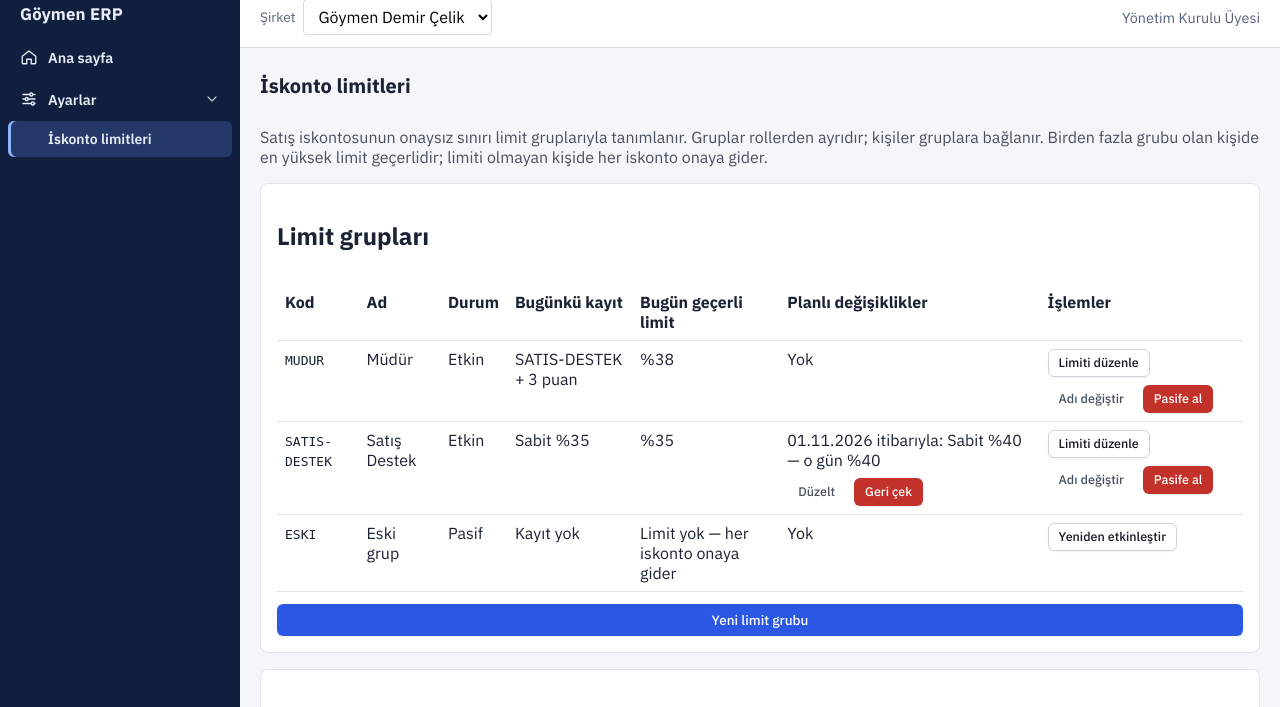
it: İskonto limitleri — groups › creates a group with the normalized code, the reason and one Idempotency-Key, then re-reads
Expected: the table named "Limit grupları ve limitleri" is shown, [277,284,1243,592]
Click the button "Yeni limit grubu".
click(760, 620)  # box [277,604,1243,636]
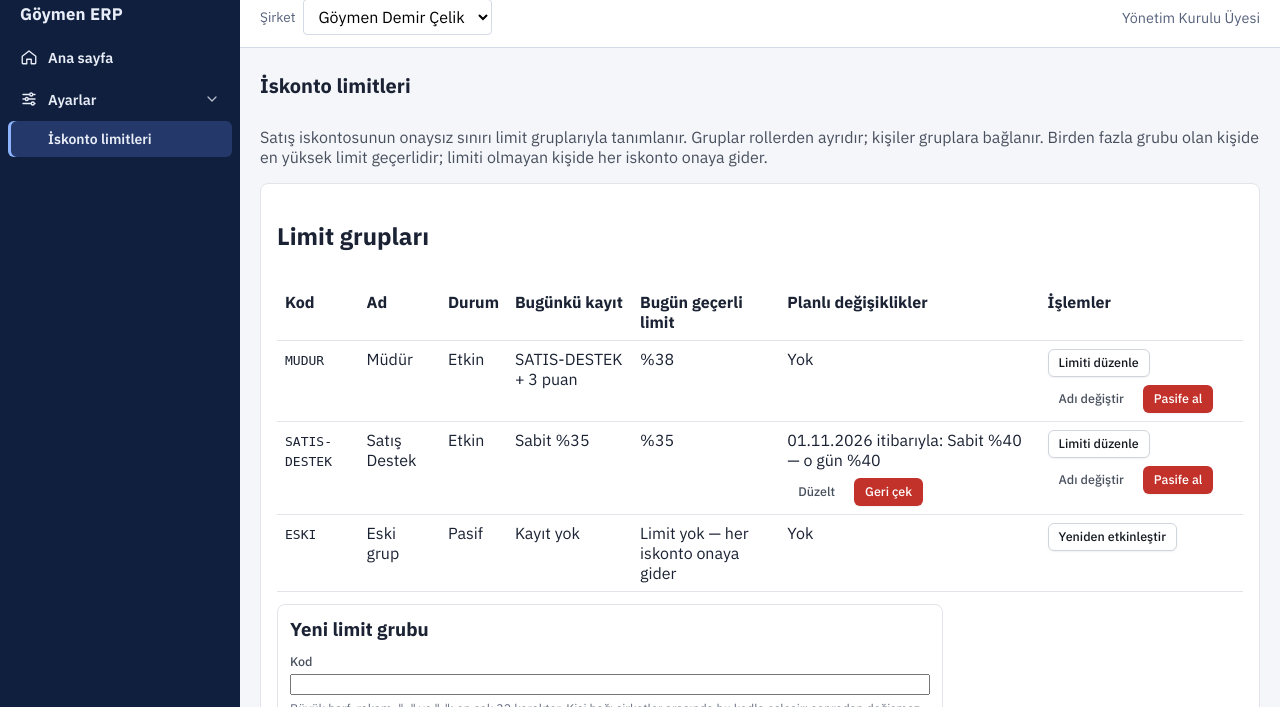
Type " kidemli-satici " into the field labelled "Kod".
click(610, 684); type(" kidemli-satici ")  # box [290,674,930,695]
(page scrolled)
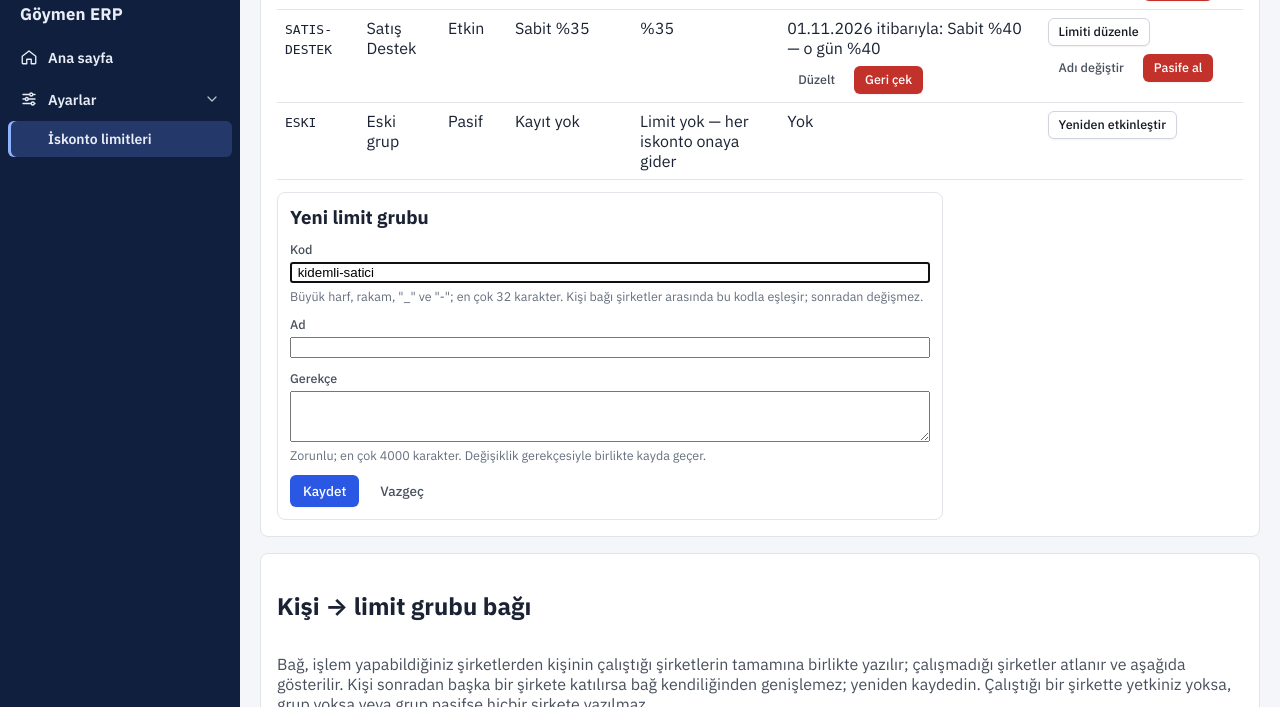
Type "Kıdemli Satıcı" into the field labelled "Ad".
click(610, 347); type("Kıdemli Satıcı")  # box [290,337,930,358]
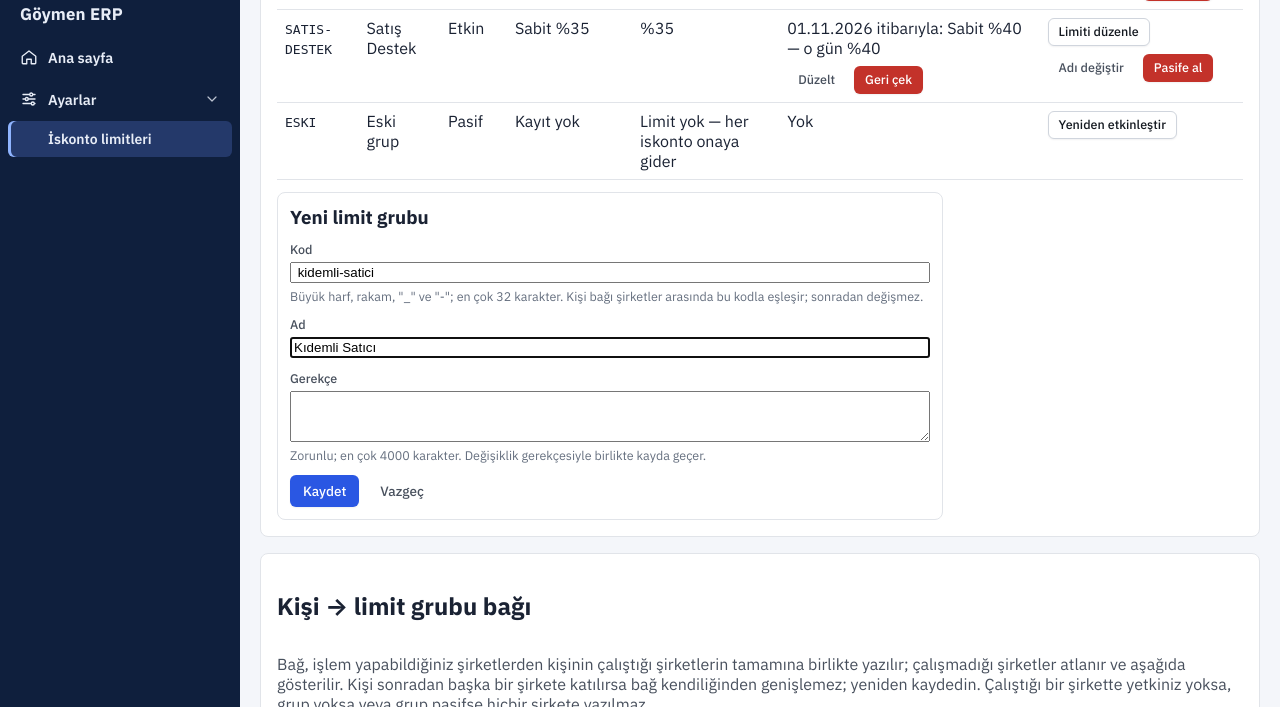
Type "Yönetim kurulu kararı" into the text box labelled "Gerekçe".
click(610, 416); type("Yönetim kurulu kararı")  # box [290,391,930,442]
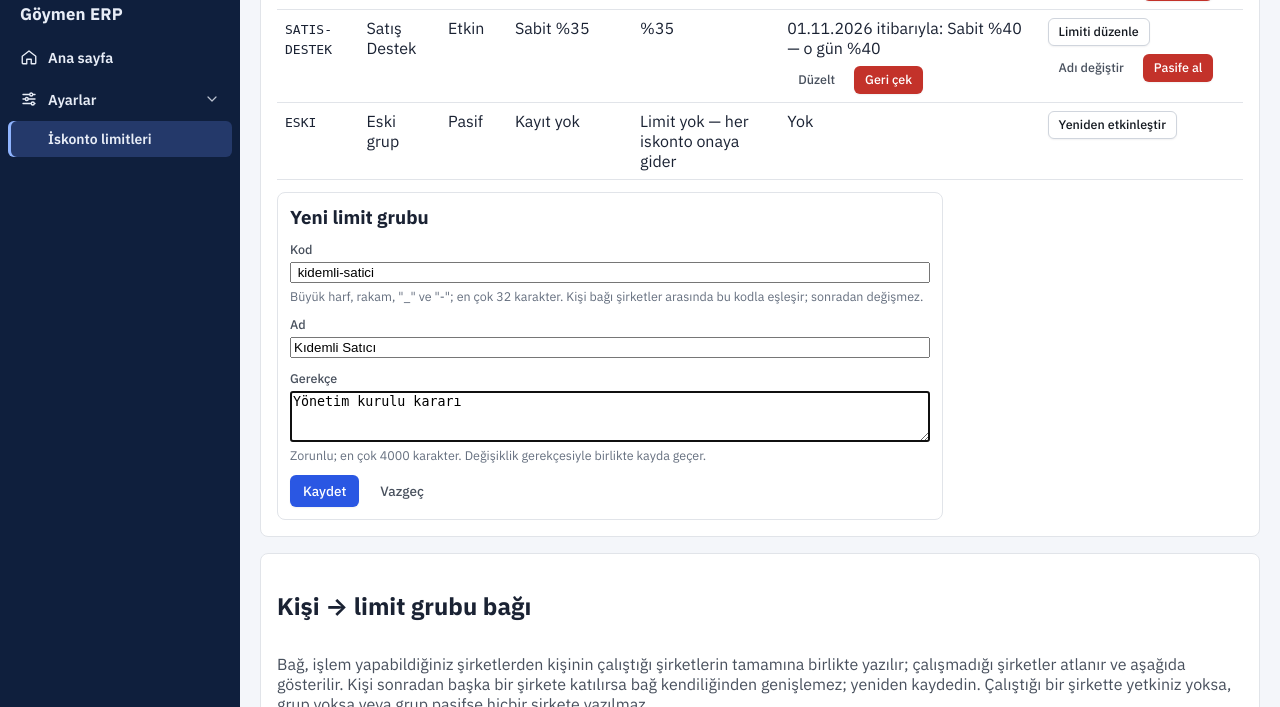
Click the button "Kaydet".
click(325, 491)  # box [290,475,359,507]
(page scrolled)
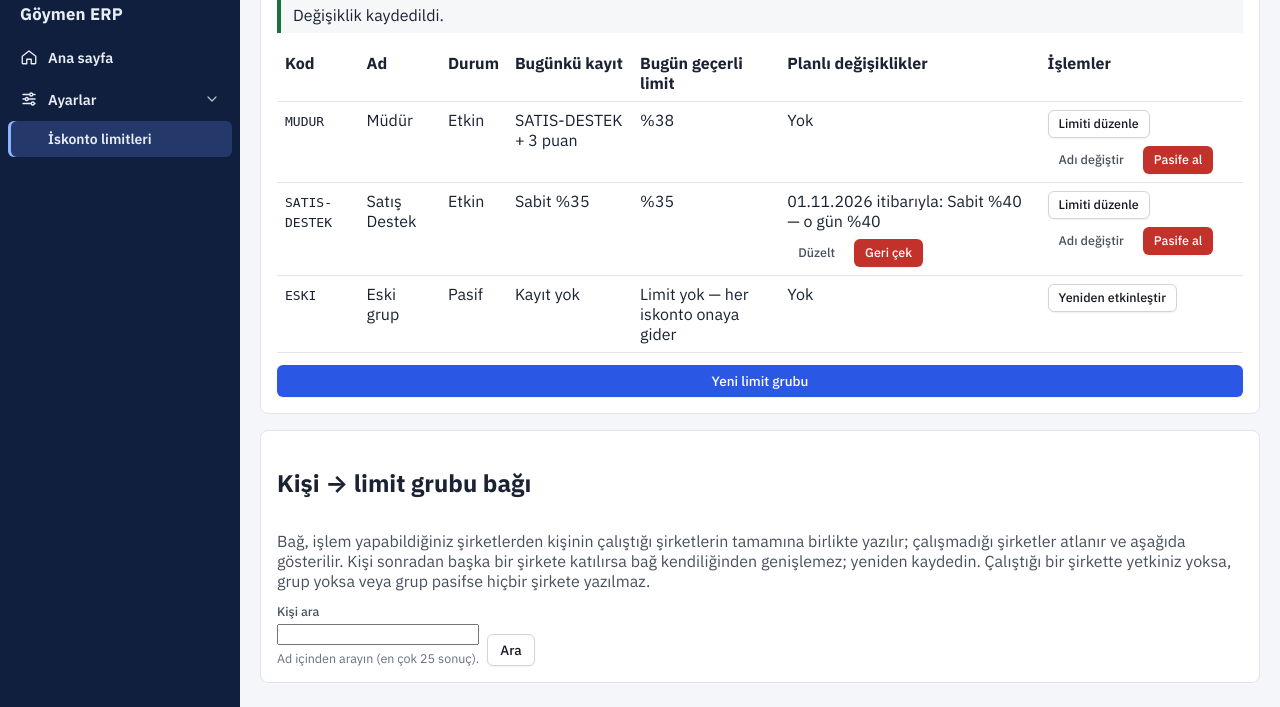
Result: the message reads "Değişiklik kaydedildi." at [293,5,444,25]
